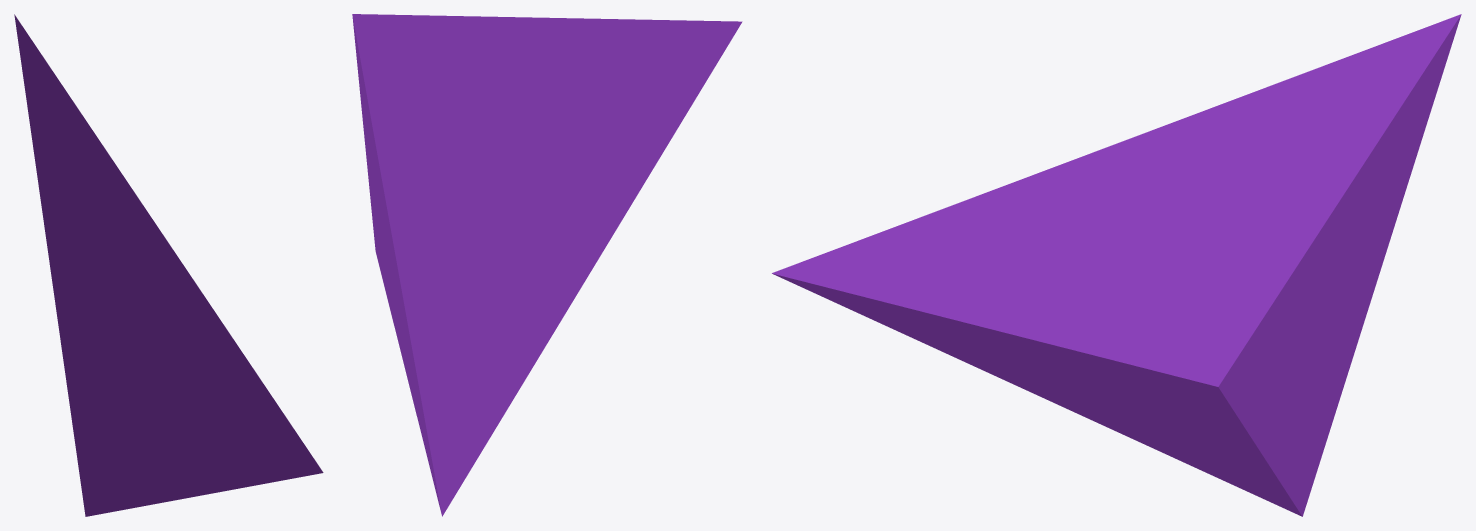
The model's file is Glass_77_10_chunks.fbx.
3 renders of one model, left to right at view 1: azimuth 30°, elevation 25°; view 2: azimuth 150°, elevation 25°; view 3: azimuth 270°, elevation 25°, orthographic. The views are drawn at different scales.
Parts seen in each view (by area): view 1: Glass_77_10_0; view 2: Glass_77_10_0; view 3: Glass_77_10_0.
Boxes of the visible parts, box(x1,y1,x2,y2) form: Glass_77_10_0: box(14, 14, 323, 516); Glass_77_10_0: box(352, 14, 742, 516); Glass_77_10_0: box(772, 14, 1461, 516).
Bounding box in the file's own units: 13.14 × 62.5 × 77.74.
